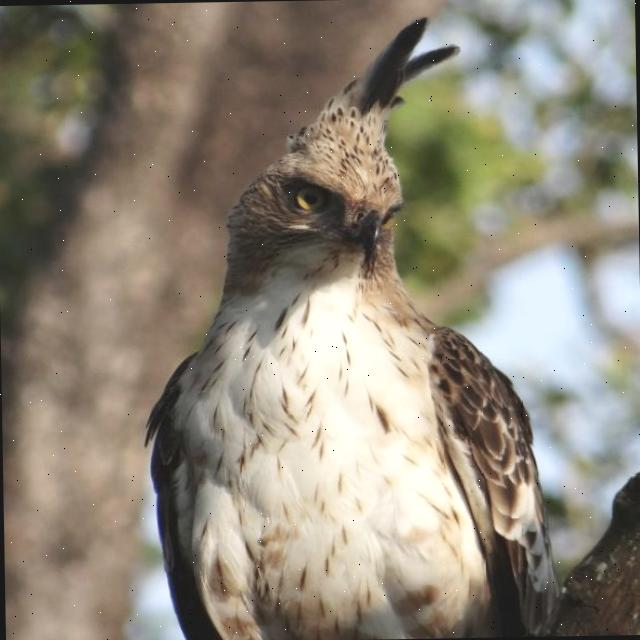Elang Jawa: (100, 0, 627, 640)
